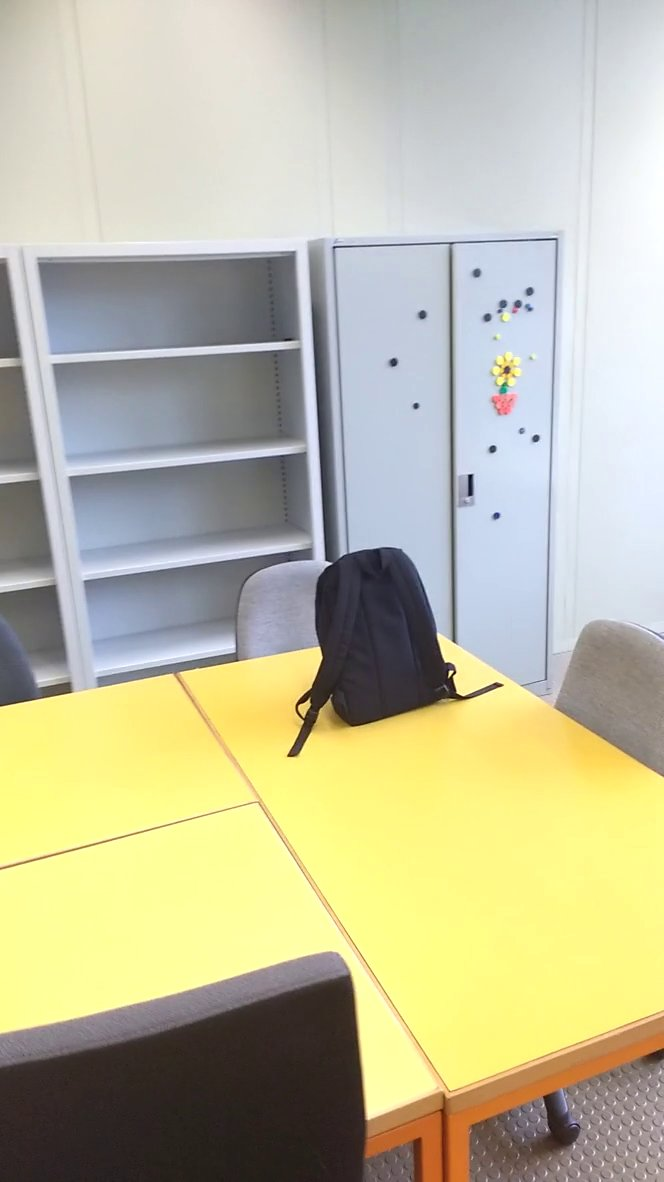bag: (284, 537, 514, 762)
chair: (201, 546, 373, 679)
